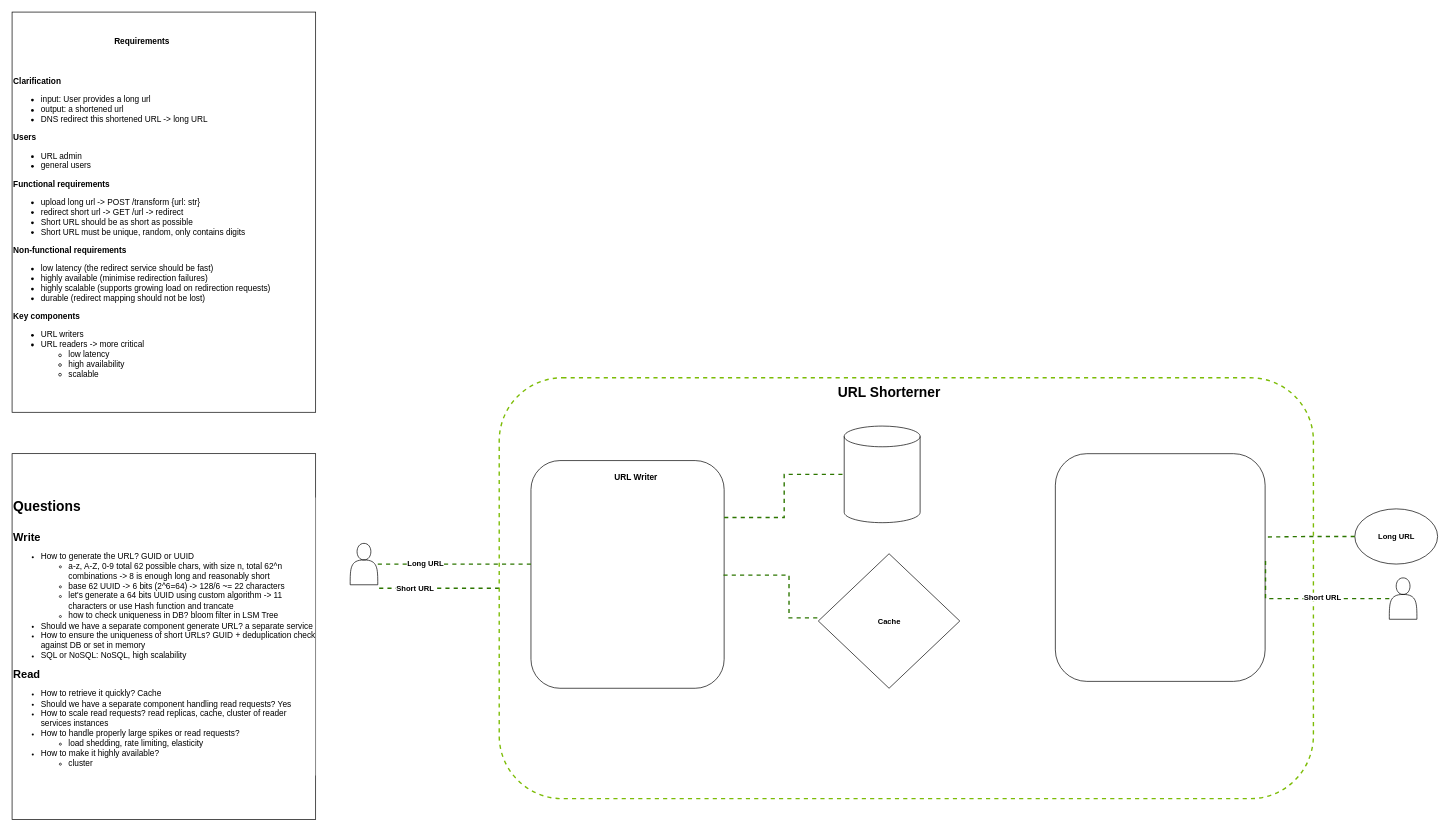
The diagram is 1450 pixels wide and 831 high, and some of its shapes have lost their labels. Here are the shapes that lost their labels. From the top down, the centre of each, then its label:
At [882,474]: "Mapping DB".
At [1160,567]: "URL Reader".
